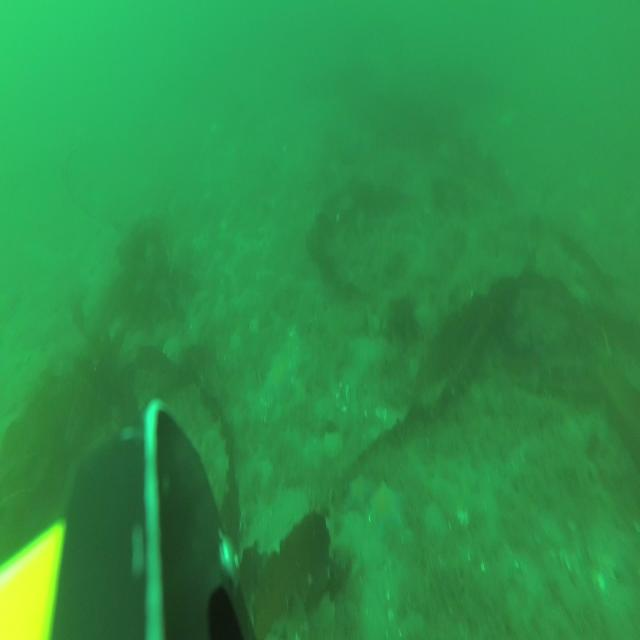scallop: (423, 499, 449, 542), (321, 428, 344, 461), (161, 333, 182, 360)
starfish: (370, 476, 402, 534), (340, 472, 369, 516), (265, 350, 292, 395)
